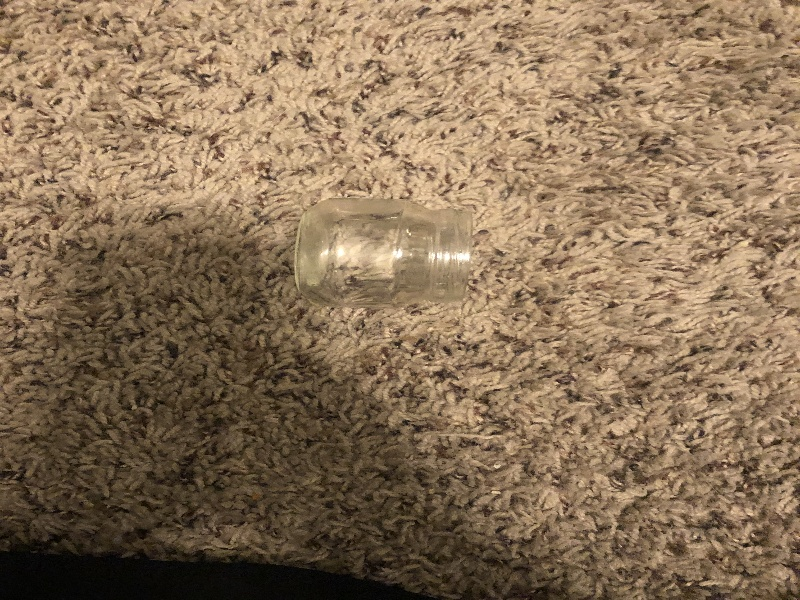glass: (290, 190, 489, 310)
